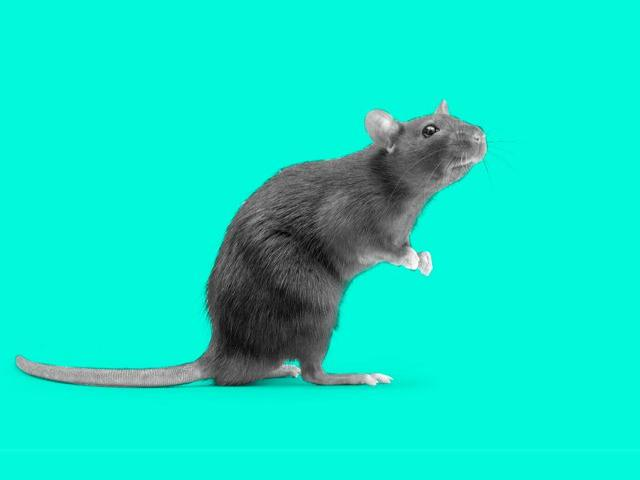Tikus: (18, 98, 486, 388)
